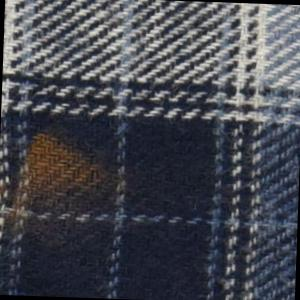Oil Stain: (1, 126, 119, 248)
